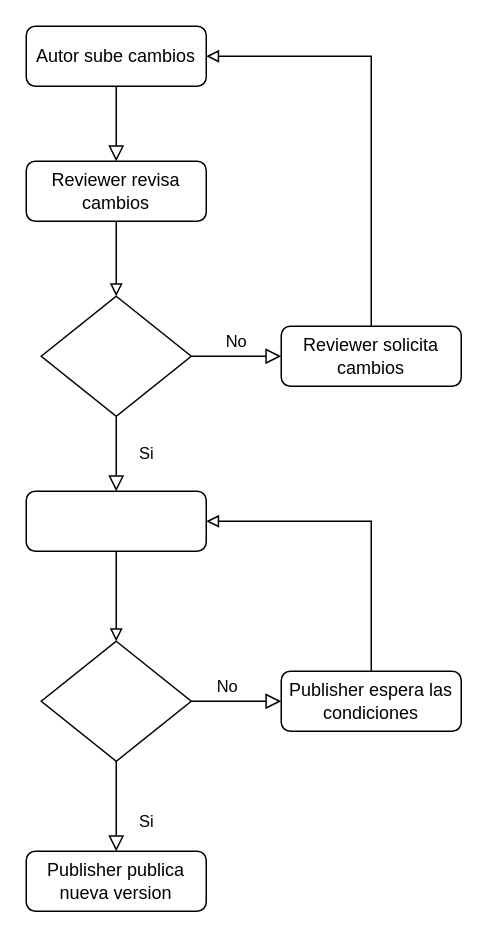
This 488x938 diagram has some shape labels left out. Each missing label, with the centre of its shape:
"Es correcto publicar?" belongs at pixel 115 700.
"Publisher valida condiciones (fechas)" belongs at pixel 115 520.
"Version aceptable para publicar?" belongs at pixel 115 355.
